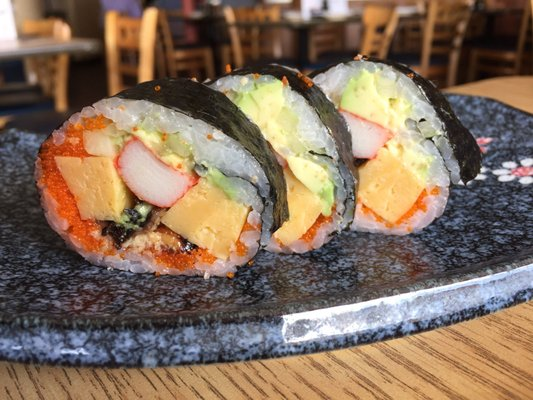soup: (32, 70, 357, 280)
